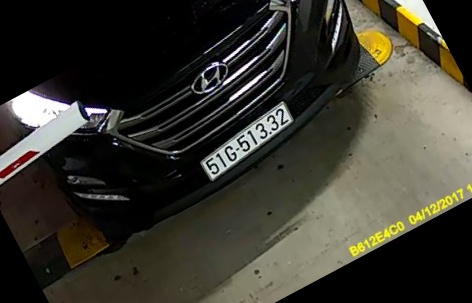plate: (195, 101, 298, 182)
